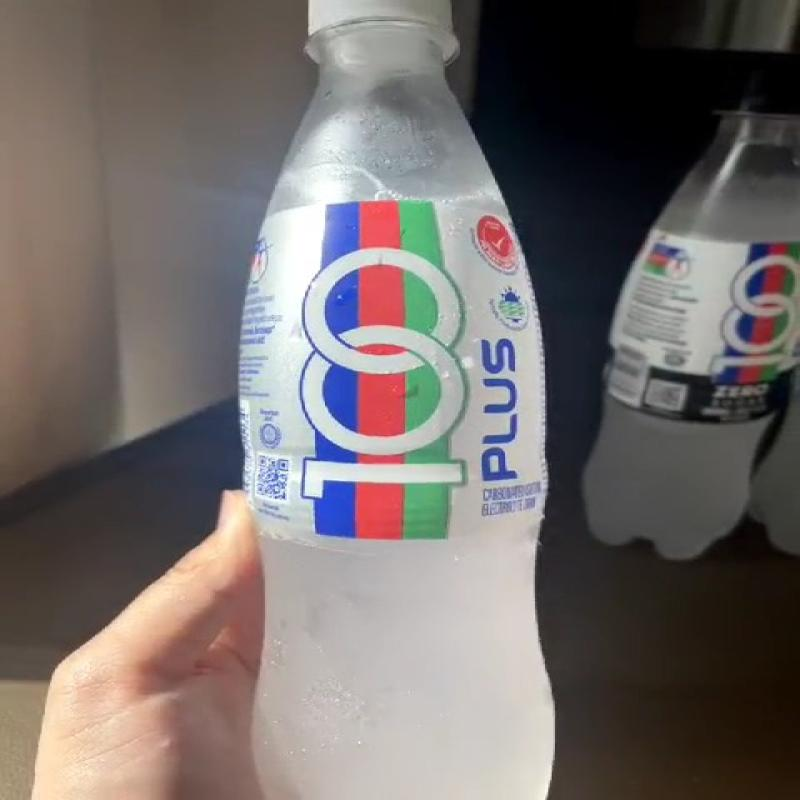botella: (234, 0, 564, 799), (591, 78, 800, 566)
